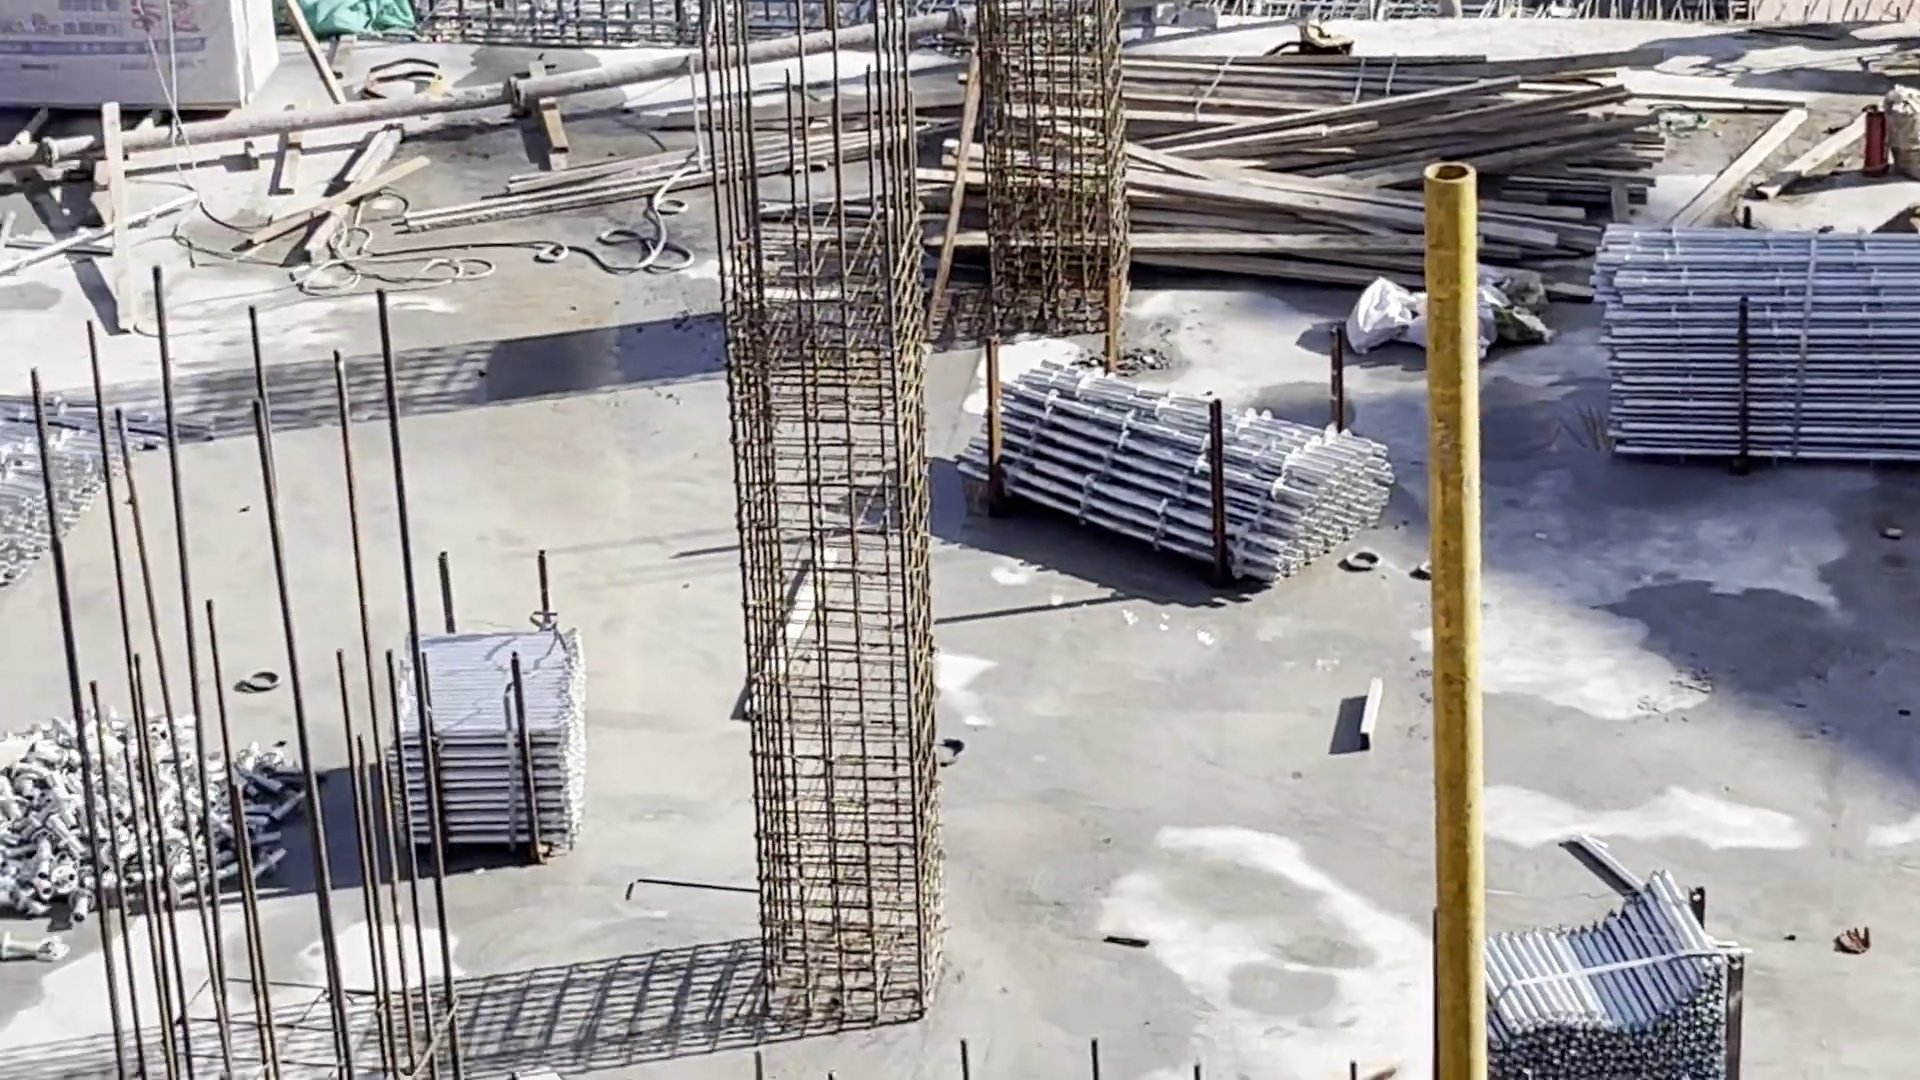scaffold: (951, 359, 1394, 601), (1594, 220, 1920, 465), (1462, 870, 1725, 1080), (389, 622, 587, 856)
wood: (928, 38, 1635, 298)
